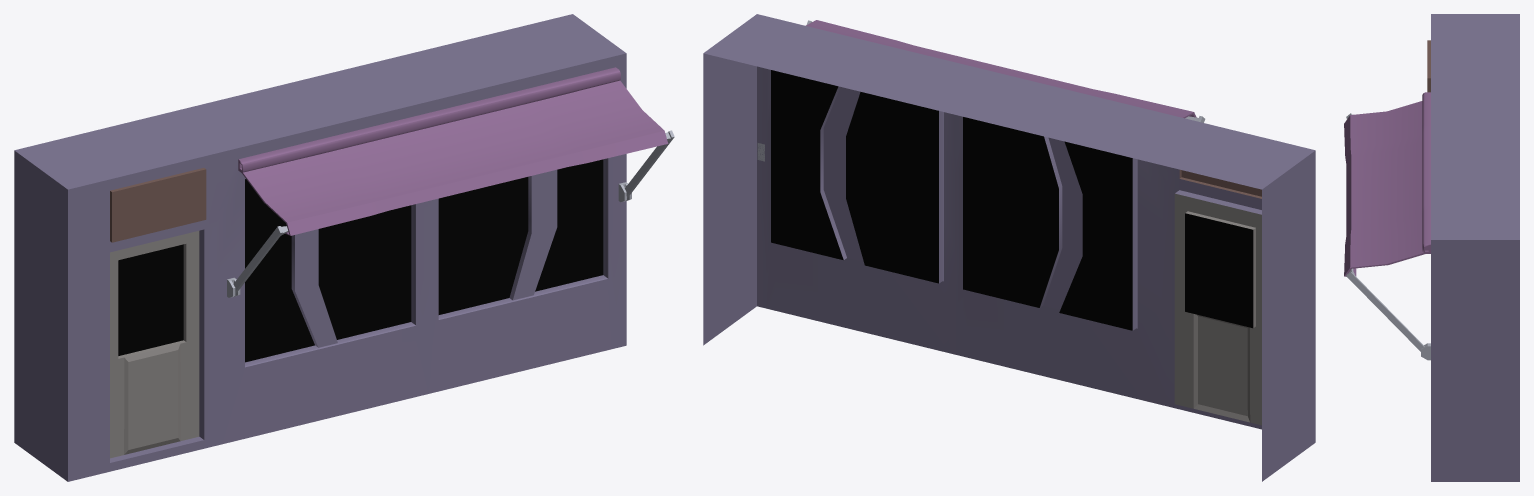
Rendered from Boutique_2.fbx.
3 views of the same model, side by side, from view 1: azimuth 30°, elevation 25°; view 2: azimuth 150°, elevation 25°; view 3: azimuth 270°, elevation 25° (orthographic). The views are drawn at different scales.
Parts seen in each view (by area): view 1: pCube18; view 2: pCube18; view 3: pCube18.
Part boxes in pixels (<box>): pCube18: <box>14,14,674,481</box>; pCube18: <box>703,14,1315,481</box>; pCube18: <box>1344,14,1519,481</box>.
Bounding box in the file's own units: 0.06 × 0.03 × 0.0198.
